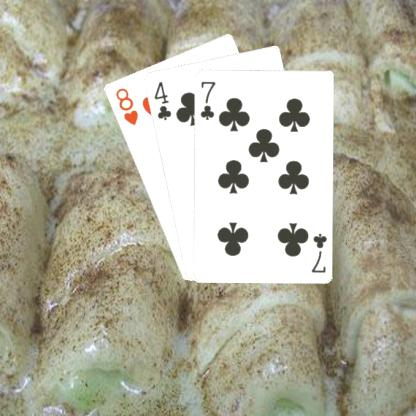4C: (151, 78, 172, 121)
7C: (308, 230, 327, 274), (198, 78, 216, 121)
8H: (112, 85, 140, 127)
